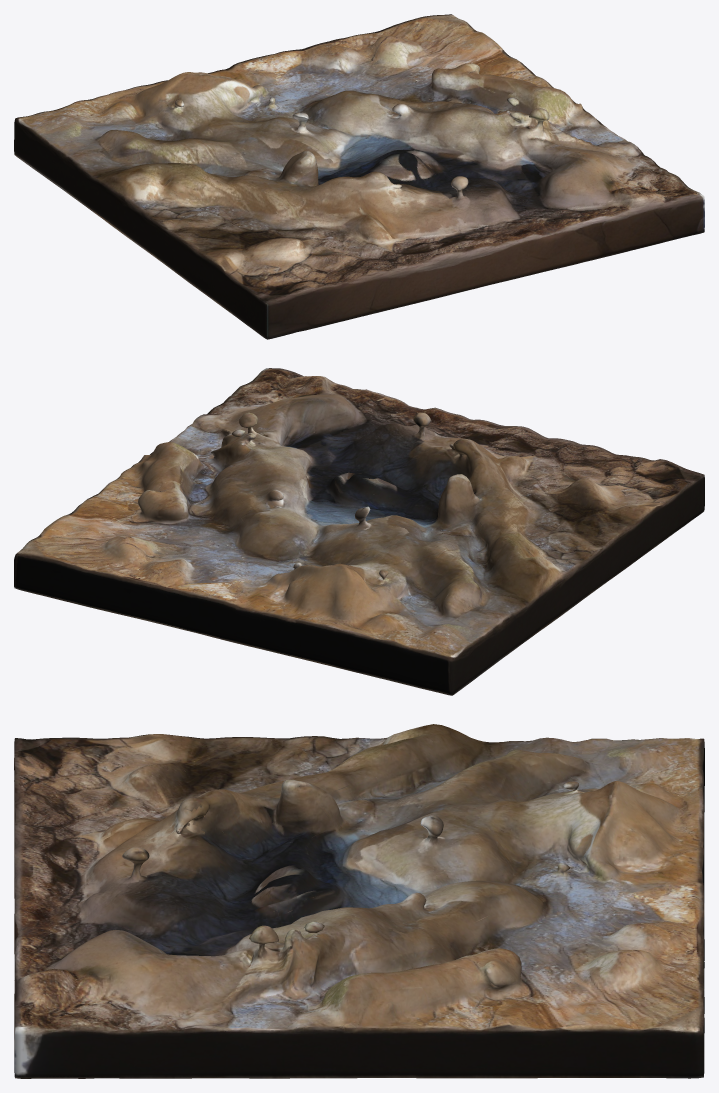
File: cave_floor_0914075847_refine.glb
The picture shows the model from 3 angles, top to bottom: view 1: azimuth 30°, elevation 25°; view 2: azimuth 150°, elevation 25°; view 3: azimuth 270°, elevation 25°; orthographic projection. The views are drawn at different scales.
Size of the model in its own units: 2 by 0.3353 by 2.
1 material, 1 textured.
